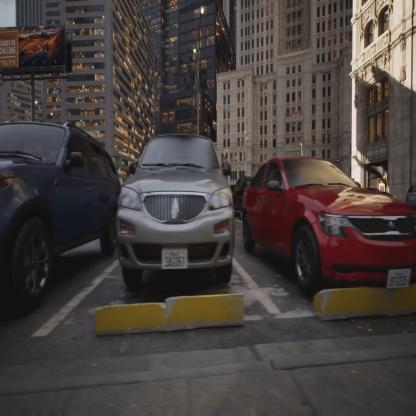License-Plate: (156, 242, 193, 277), (384, 262, 415, 296)
